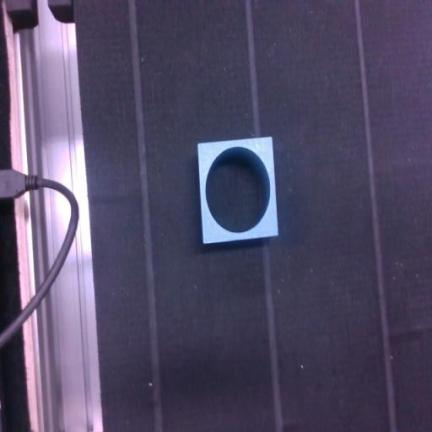hole: (198, 137, 278, 243)
